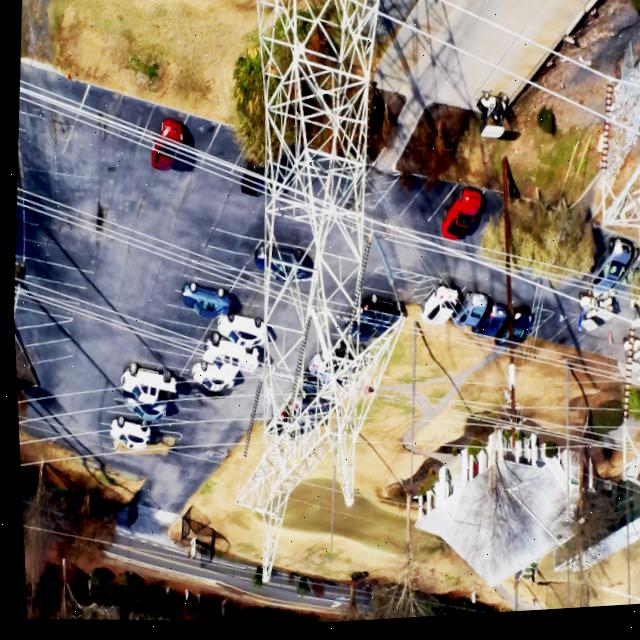poles: (230, 0, 400, 585)
wires: (18, 78, 157, 151), (363, 221, 503, 279), (186, 151, 255, 188), (508, 273, 573, 307), (556, 279, 590, 296), (343, 494, 348, 509)
